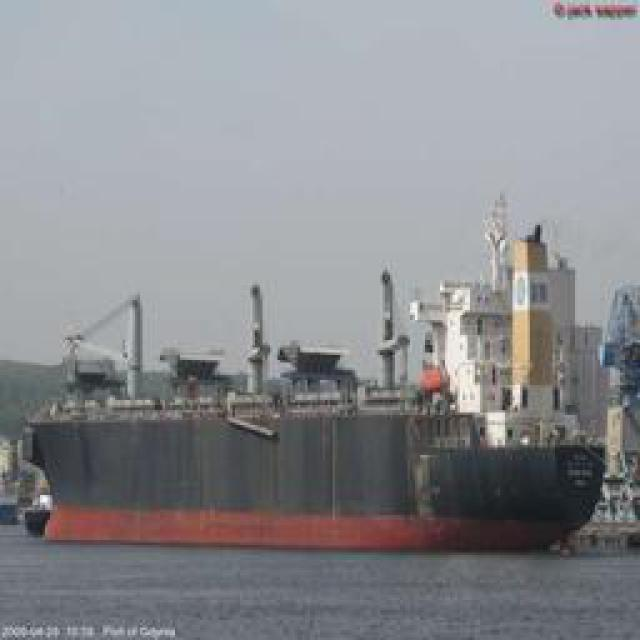Ship: (15, 256, 625, 544)
